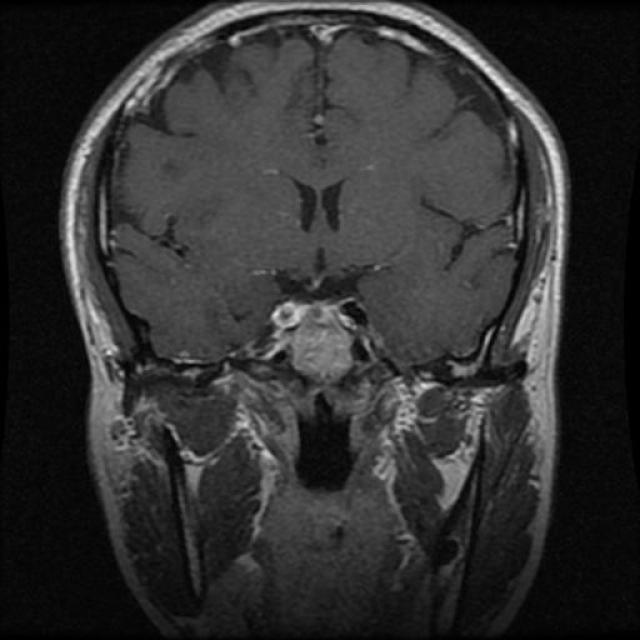pituitary: (268, 276, 378, 392)
